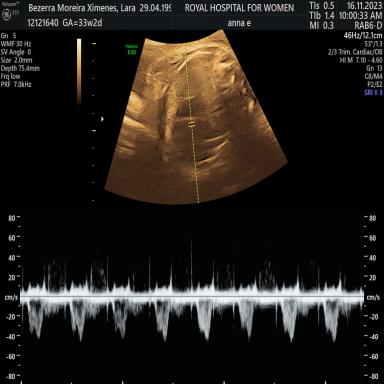Ultrasound-Waves: (28, 216, 360, 384)
